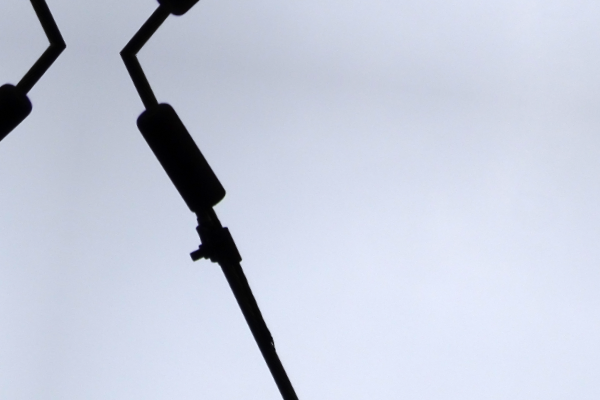damper_defect: (132, 98, 278, 352)
